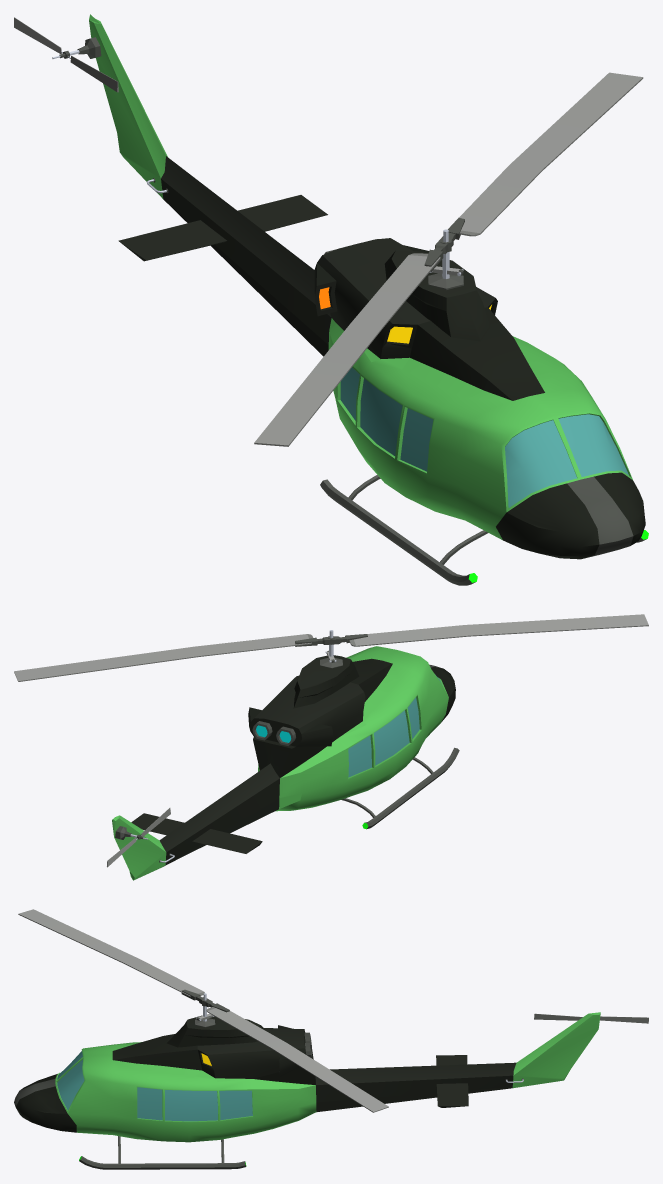
File: Helicopter_Green.glb
The picture shows the model from 3 angles, top to bottom: view 1: azimuth 30°, elevation 25°; view 2: azimuth 150°, elevation 25°; view 3: azimuth 270°, elevation 25°; orthographic projection. The views are drawn at different scales.
Visible parts, largest first — view 1: Helicopter_B; view 2: Helicopter_B; view 3: Helicopter_B.
Boxes of the visible parts, left/top/right/bottom form: Helicopter_B: left=14, top=14, right=648, bottom=585; Helicopter_B: left=14, top=614, right=648, bottom=880; Helicopter_B: left=14, top=909, right=648, bottom=1169.
Size of what is drawn, in the model's own units: 10.19 by 3.75 by 14.31.
1 material, 1 textured.
